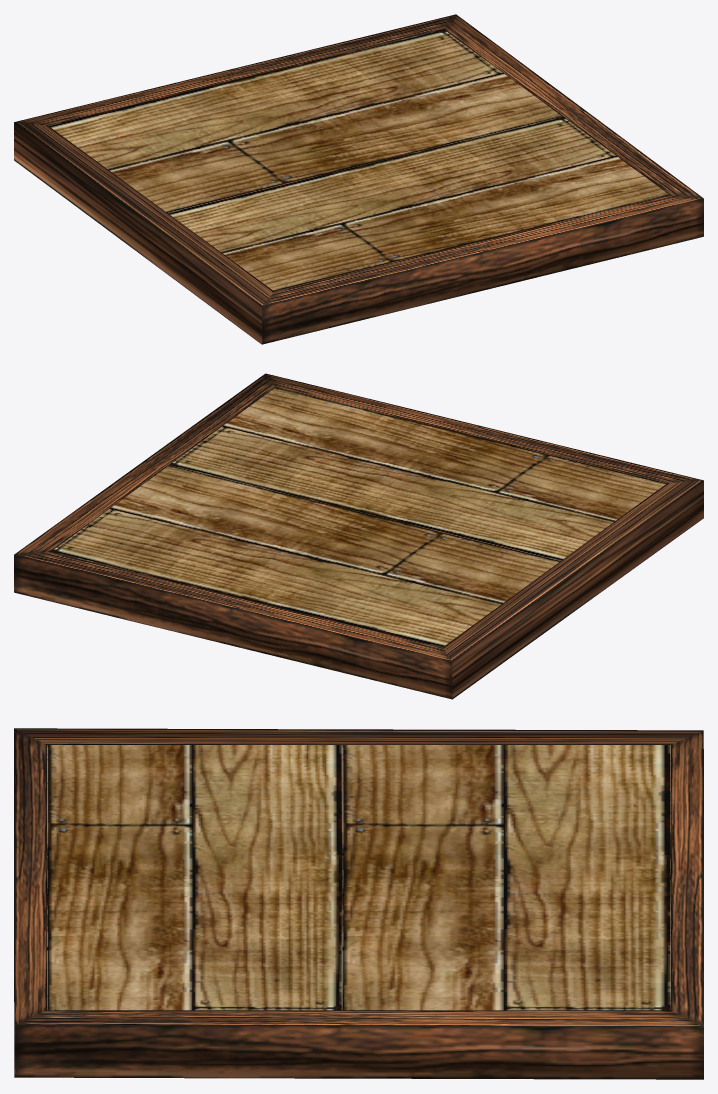
Rendered from INST_WH_PLATFORM1_01.fbx.
3 renders of one model, top to bottom at view 1: azimuth 30°, elevation 25°; view 2: azimuth 150°, elevation 25°; view 3: azimuth 270°, elevation 25°, orthographic. The views are drawn at different scales.
Parts seen in each view (by area): view 1: INST_WH_PLATFORM1_01; view 2: INST_WH_PLATFORM1_01; view 3: INST_WH_PLATFORM1_01.
Boxes of the visible parts, bbox=[...] form: INST_WH_PLATFORM1_01: bbox=[14, 14, 703, 344]; INST_WH_PLATFORM1_01: bbox=[14, 373, 703, 699]; INST_WH_PLATFORM1_01: bbox=[14, 728, 703, 1079].
Size of the model in its own units: 15995 by 1312 by 15612.
2 materials, 2 textured.
